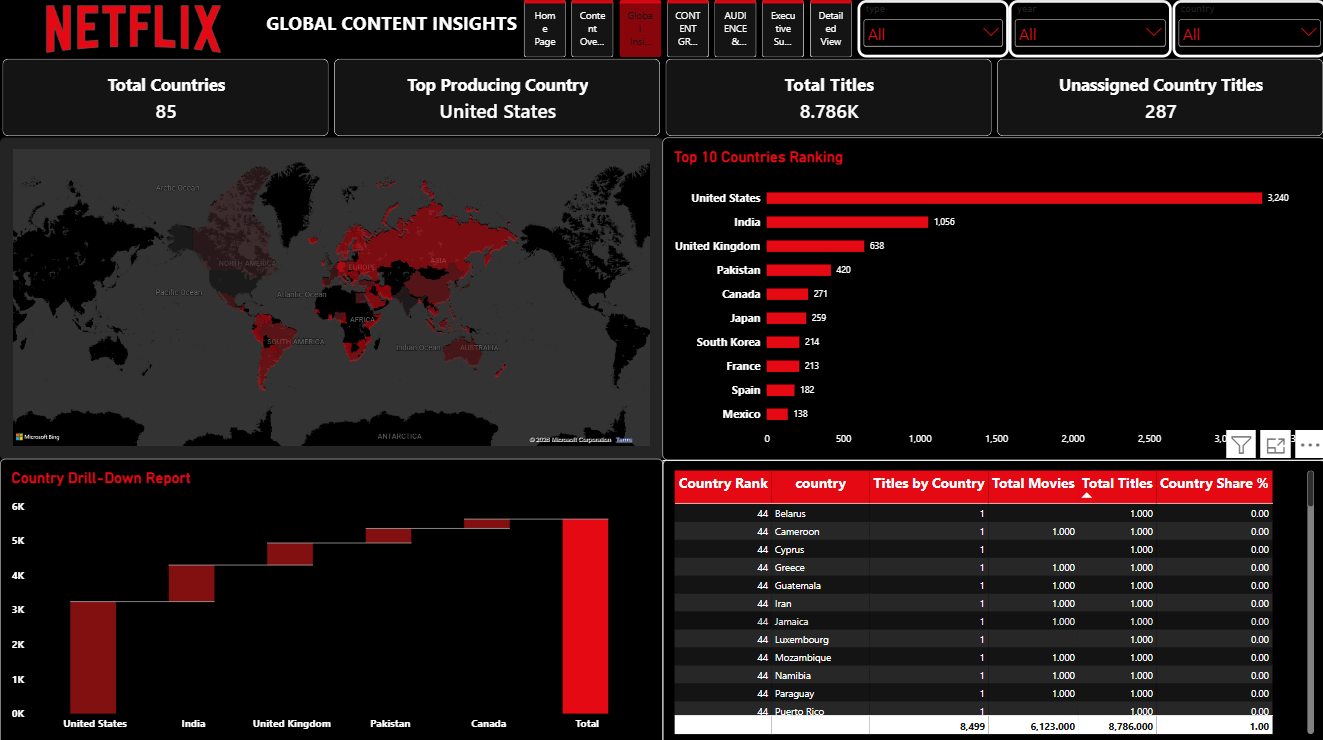

What the dashboard file says about the page in this screenshot:
{"tool":"powerbi","page":{"name":"Global Insights","canvas":[1920,1080],"ordinal":2},"visuals":[{"type":"image","box":[0,0,386.1,83.5],"z":0},{"type":"textbox","box":[386.1,14.6,371.5,52.2],"z":1000},{"type":"pageNavigator","box":[757.6,0,475.8,83.5],"z":2000},{"type":"slicer","title":"Type","fields":{"Values":["Fact_Netflix_Titles.type"]},"box":[1241.7,0,219.1,83.5],"z":3000},{"type":"slicer","title":"Type","fields":{"Values":["Dim_Date.year"]},"box":[1460.9,0,235.8,83.5],"z":4000},{"type":"slicer","title":"Type","fields":{"Values":["Countries.country"]},"box":[1696.7,0,223.3,83.5],"z":5000},{"type":"cardVisual","fields":{"Data":["🎉 Measures.Total Countries","🎉 Measures.Top Producing Country","🎉 Measures.Total Titles","🎉 Measures.Unassigned Country Titles"]},"box":[4.2,85.6,1915.8,112.7],"z":6000},{"type":"filledMap","fields":{"Category":["Countries.country"]},"box":[0,198.3,960,467.5],"z":7000},{"type":"clusteredBarChart","title":"Top 10 Countries Ranking","fields":{"Category":["Countries.country"],"Y":["🎉 Measures.Titles by Country"]},"box":[960,198.3,960,467.5],"z":8000},{"type":"waterfallChart","title":"Country Drill-Down Report","fields":{"Category":["Countries.country","Fact_Netflix_Titles.type","Fact_Netflix_Titles.Primary_Genre"],"Y":["🎉 Measures.Titles by Country"]},"box":[0,664.8,960,414.8],"z":9000},{"type":"tableEx","fields":{"Values":["🎉 Measures.Country Rank","Countries.country","🎉 Measures.Titles by Country","🎉 Measures.Total Movies","🎉 Measures.Total Titles","🎉 Measures.Country Share %"]},"box":[960,666,960,414],"z":10000}]}

Visuals, with their boxes in screenshot pixels (x1, y1, x2, y2), scaled from the page's 1920x1080 canvas onto the 1323x740 screenshot:
image: (x1=0, y1=0, x2=266, y2=57)
textbox: (x1=266, y1=10, x2=522, y2=46)
pageNavigator: (x1=522, y1=0, x2=850, y2=57)
"Type" slicer: (x1=856, y1=0, x2=1007, y2=57)
"Type" slicer: (x1=1007, y1=0, x2=1169, y2=57)
"Type" slicer: (x1=1169, y1=0, x2=1322, y2=57)
cardVisual - 🎉 Measures.Total Countries x 🎉 Measures.Top Producing Country: (x1=3, y1=59, x2=1322, y2=136)
filledMap - Countries.country: (x1=0, y1=136, x2=662, y2=456)
"Top 10 Countries Ranking" clusteredBarChart: (x1=662, y1=136, x2=1322, y2=456)
"Country Drill-Down Report" waterfallChart: (x1=0, y1=456, x2=662, y2=739)
tableEx - 🎉 Measures.Country Rank x Countries.country: (x1=662, y1=456, x2=1322, y2=739)
